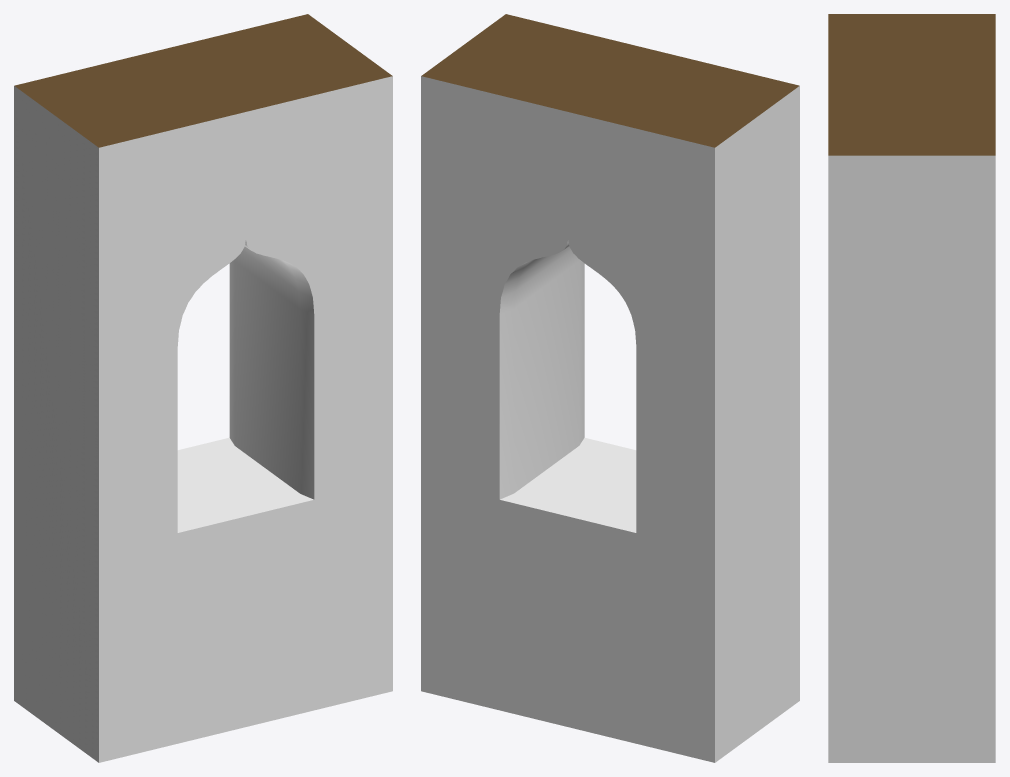
File: WallWithWindow1-Atl.fbx
3 views of the same model, side by side, from view 1: azimuth 30°, elevation 25°; view 2: azimuth 150°, elevation 25°; view 3: azimuth 270°, elevation 25° (orthographic).
Parts seen in each view (by area): view 1: Wall with window v1; view 2: Wall with window v1; view 3: Wall with window v1.
Part boxes in pixels (box(x1,y1,x2,y2)): Wall with window v1: box(14, 14, 392, 762); Wall with window v1: box(421, 14, 799, 762); Wall with window v1: box(828, 14, 995, 762).
Size of the model in its own units: 200 by 400 by 100.
